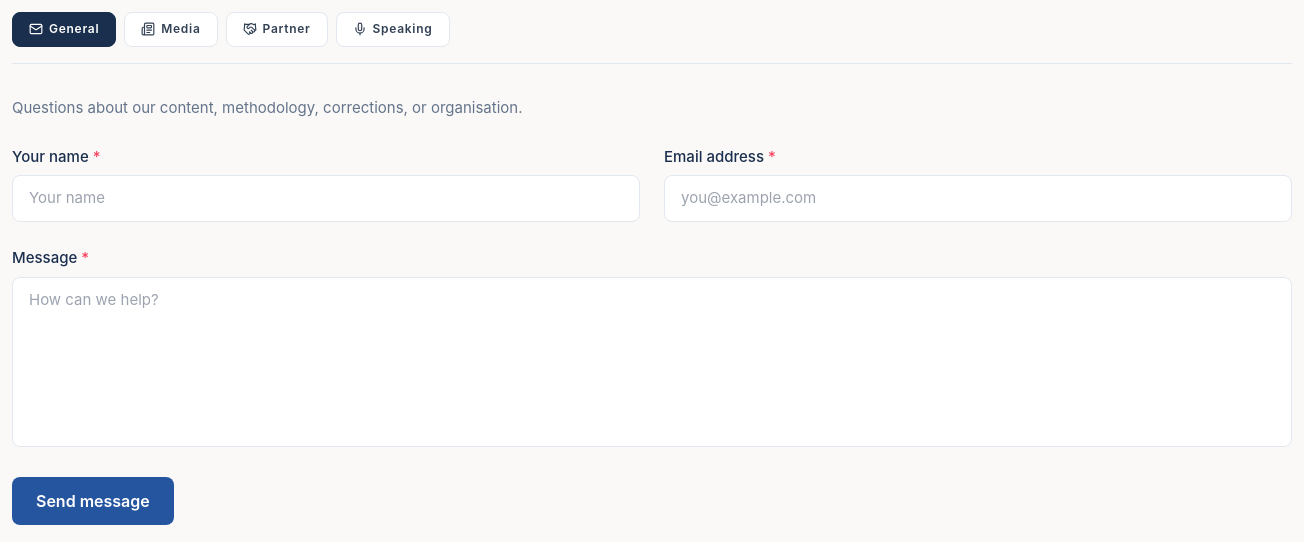
it: ContactForms › shows loading state on general form submit
Type "Alice" into the field labelled "Your name*" at (326, 199), box [12,175,640,222]
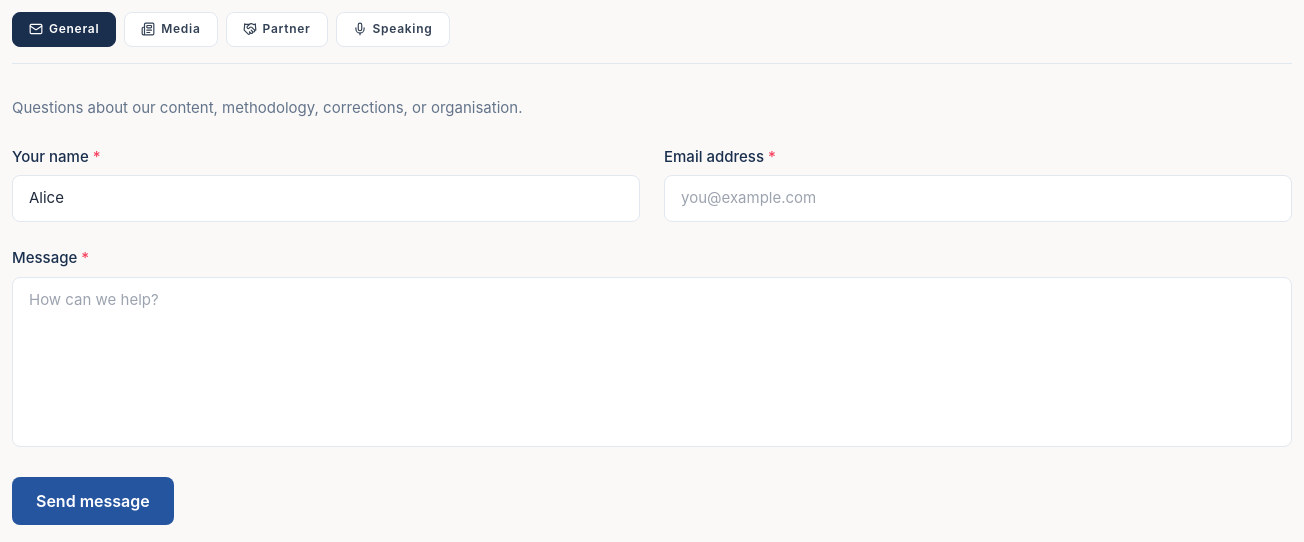
Type "alice@example.com" into the field labelled "Email address*" at (978, 199), box [664,175,1292,222]
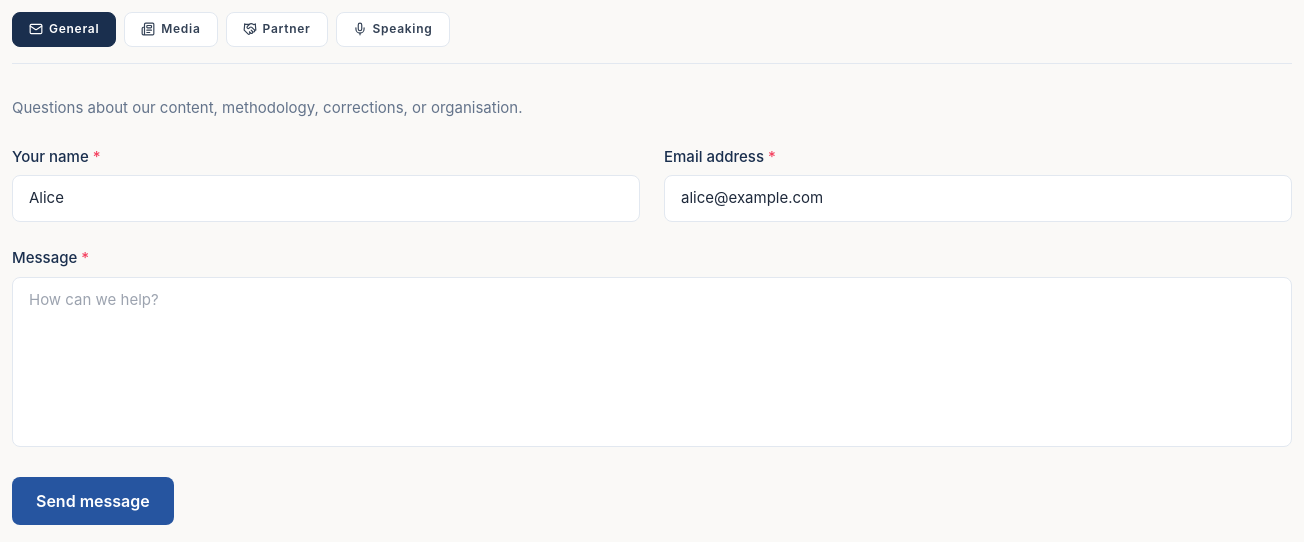
Type "Hello there" into the text box labelled "Message*" at (652, 362), box [12,277,1292,447]
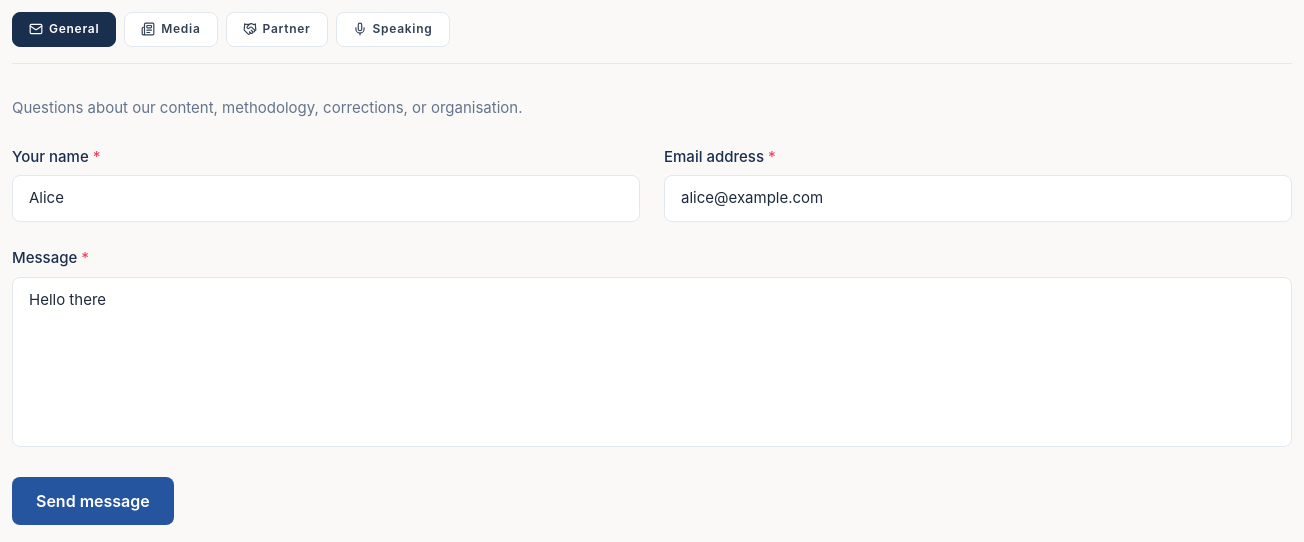
Click the button "Send message" at (93, 501), box [12,477,174,525]
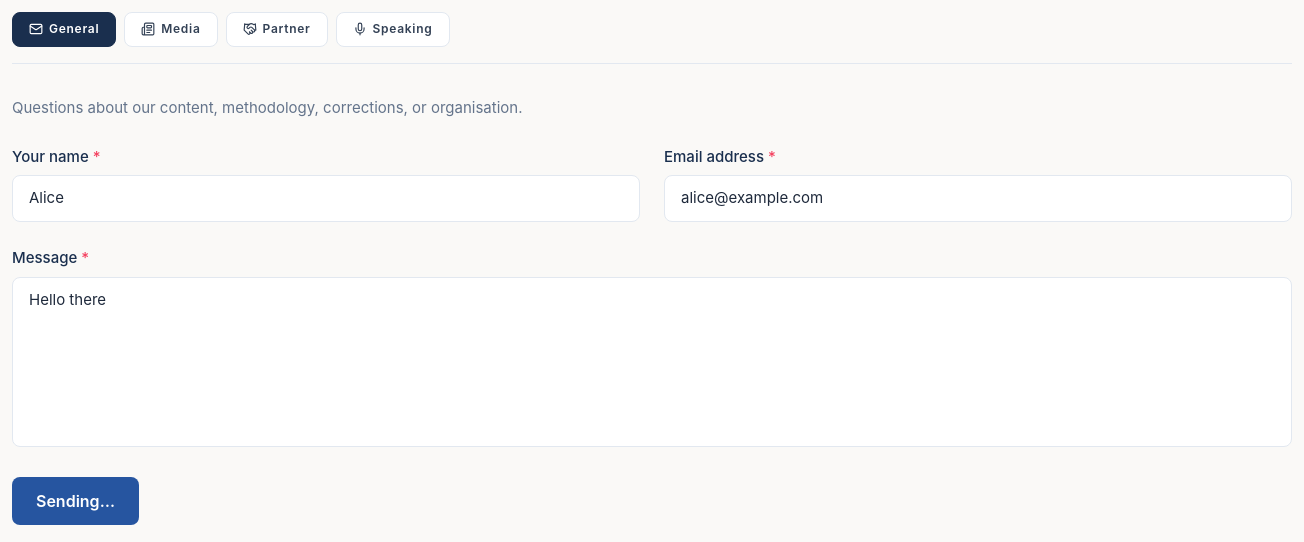
Check: the button "Sending…" is shown, box [12,477,139,525]
